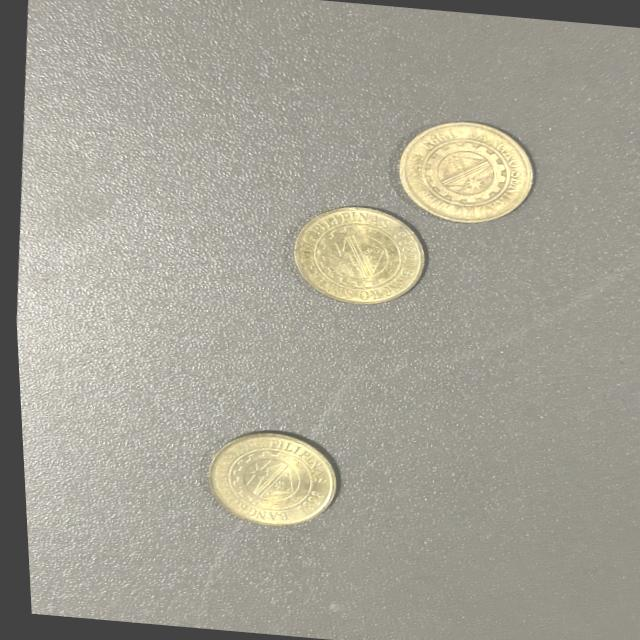25Cent_Old_Back: (392, 118, 531, 224), (200, 428, 331, 528)
